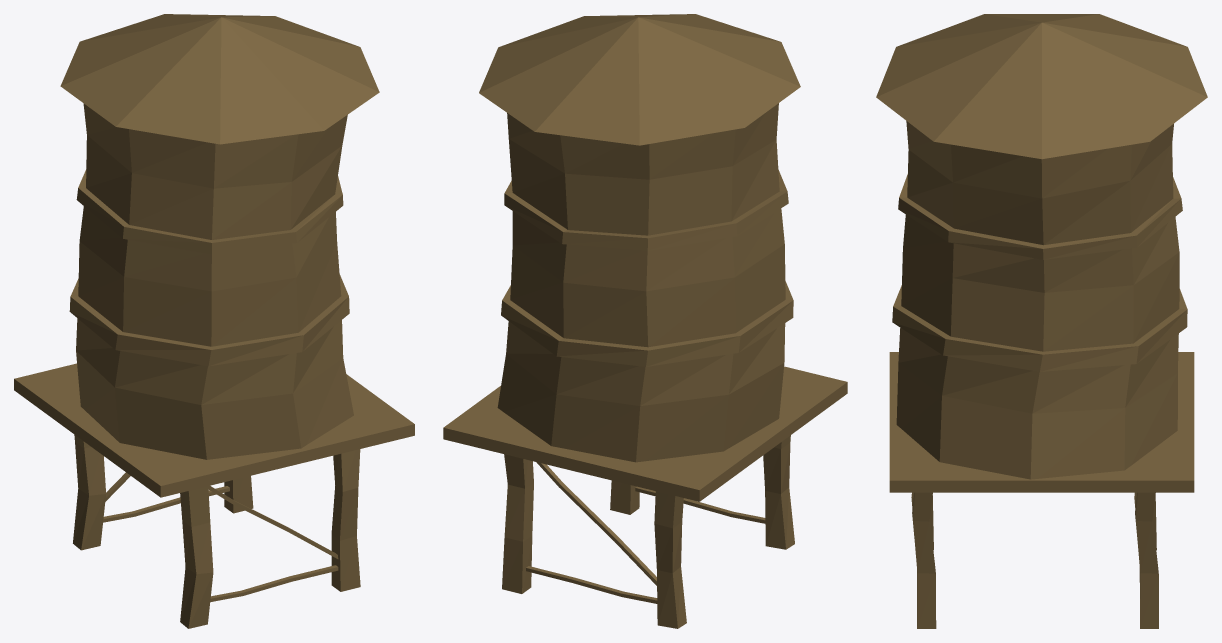
File: wasserturm.fbx
3 views of the same model, side by side, from view 1: azimuth 30°, elevation 25°; view 2: azimuth 150°, elevation 25°; view 3: azimuth 270°, elevation 25° (orthographic). The views are drawn at different scales.
Visible parts, largest first — view 1: Wasserturm, Gestell; view 2: Wasserturm, Gestell; view 3: Wasserturm, Gestell.
Part boxes in pixels (<box>): Wasserturm: <box>60,14,379,459</box>; Gestell: <box>14,363,414,628</box>; Wasserturm: <box>479,14,800,462</box>; Gestell: <box>443,366,847,628</box>; Wasserturm: <box>876,14,1207,479</box>; Gestell: <box>889,352,1194,628</box>.
Size of the model in its own units: 504 by 961 by 510.
